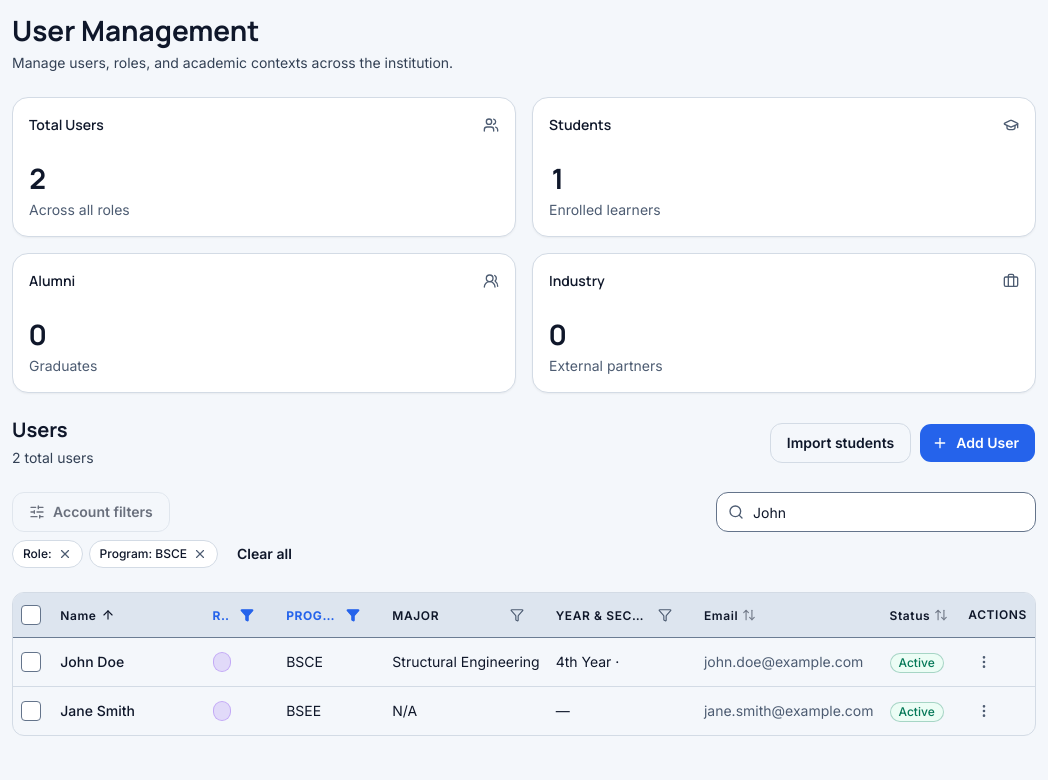
SecretaryUsersList › clears the search box along with the rest of the filters
Step 1. Click the button "Clear all" → (264, 554), box [224, 540, 305, 568]
Wait 300 ms
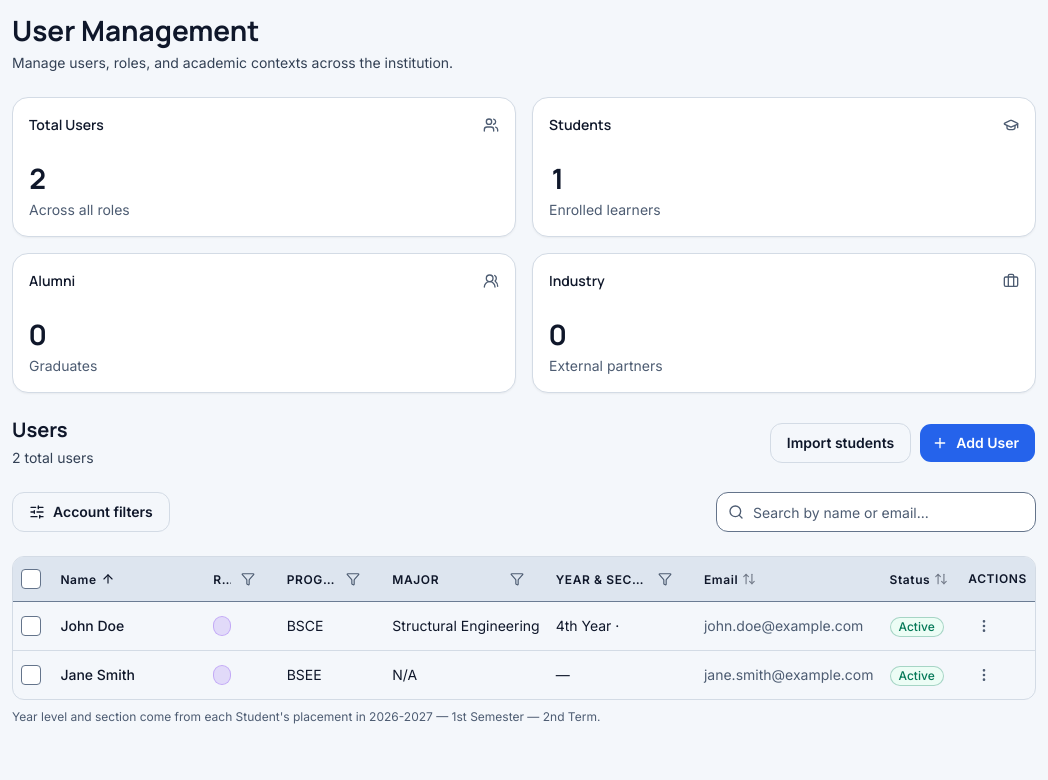
Result: the search field with placeholder "Search by name or email..." is empty at [716, 492, 1036, 532]
